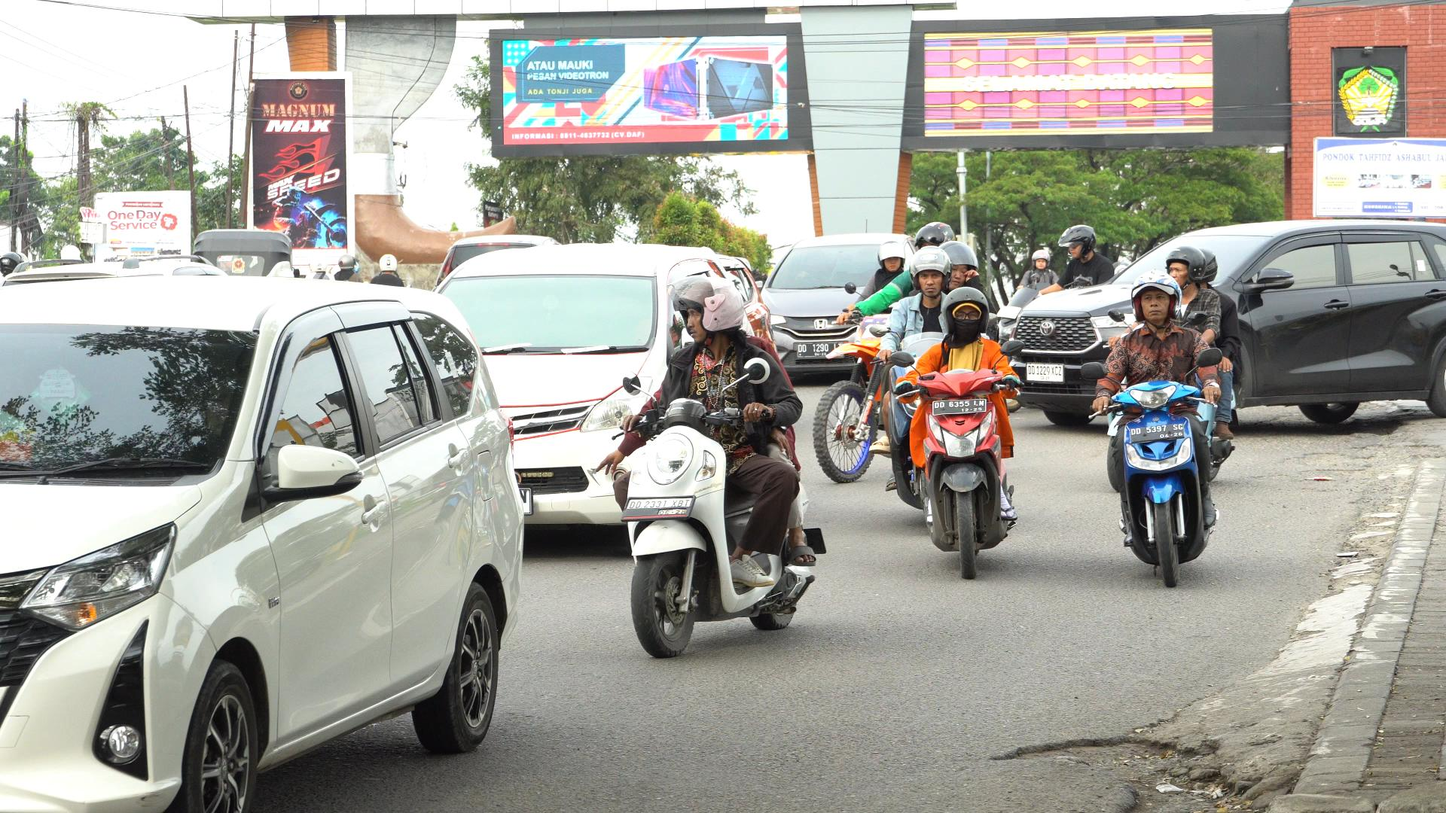number-plate: (618, 491, 701, 519), (931, 396, 990, 416), (1127, 423, 1187, 442)
